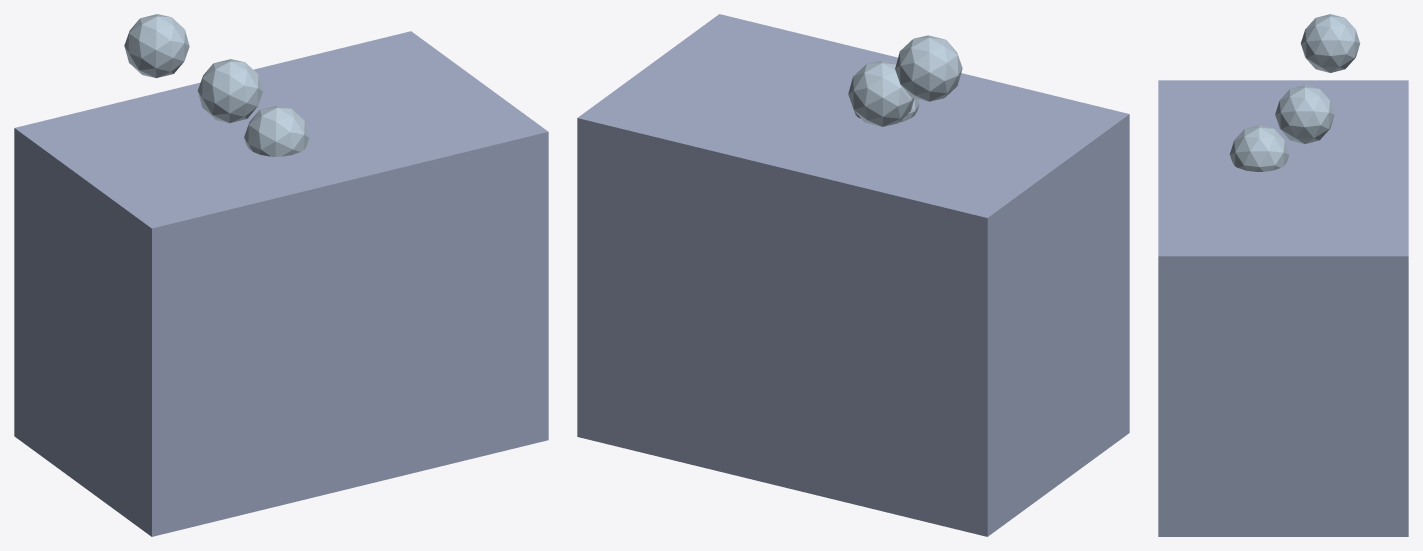
File: chrono_wraith.glb
3 views of the same model, side by side, from view 1: azimuth 30°, elevation 25°; view 2: azimuth 150°, elevation 25°; view 3: azimuth 270°, elevation 25° (orthographic). The views are drawn at different scales.
Visible parts, largest first — view 1: geometry_0; view 2: geometry_0; view 3: geometry_0.
Boxes of the visible parts, x1=… form: geometry_0: x1=14, y1=14, x2=548, y2=536; geometry_0: x1=577, y1=14, x2=1129, y2=536; geometry_0: x1=1158, y1=14, x2=1408, y2=536.
Bounding box in the file's own units: 0.7 × 0.7199 × 0.42.
